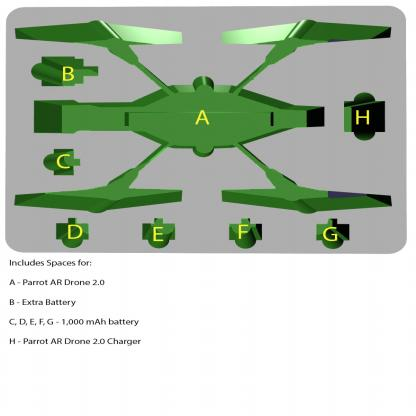drone: (7, 16, 410, 219)
